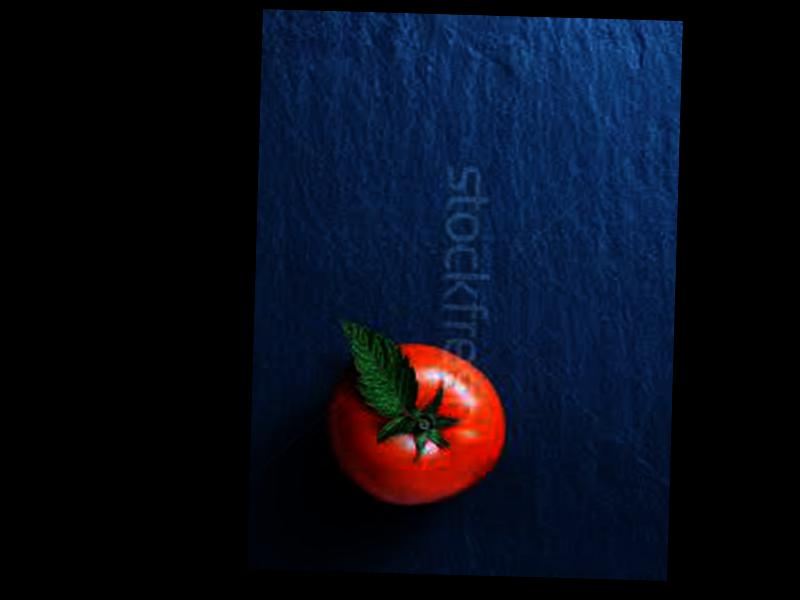Tomato: (326, 339, 508, 507)
